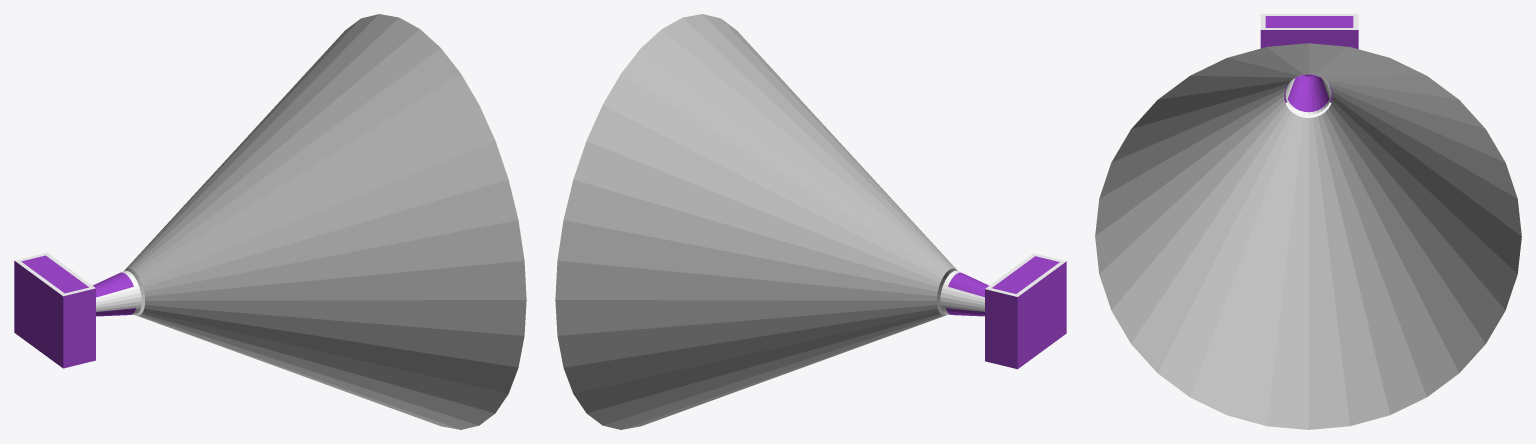
The model's file is camera.glb.
3 views of the same model, side by side, from view 1: azimuth 30°, elevation 25°; view 2: azimuth 150°, elevation 25°; view 3: azimuth 270°, elevation 25° (orthographic).
Parts seen in each view (by area): view 1: camera; view 2: camera; view 3: camera.
Part boxes in pixels (<box>): camera: <box>14,14,526,429</box>; camera: <box>555,14,1066,429</box>; camera: <box>1095,14,1521,429</box>.
Bounding box in the file's own units: 3.08 × 2.98 × 2.98.
